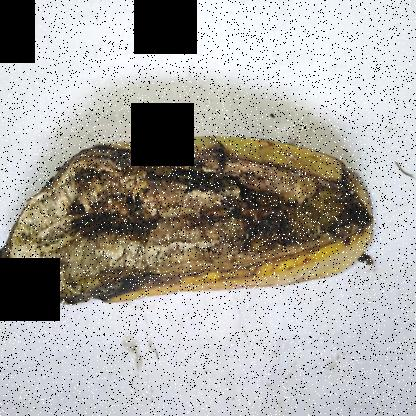rotten: (0, 140, 371, 320)
